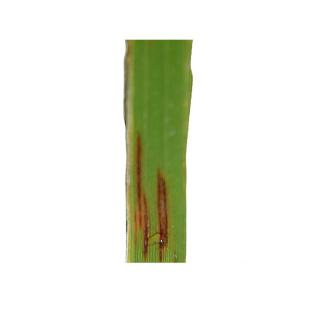Bercak-Cokelat-Sempit: (132, 131, 154, 264), (154, 164, 170, 262)
